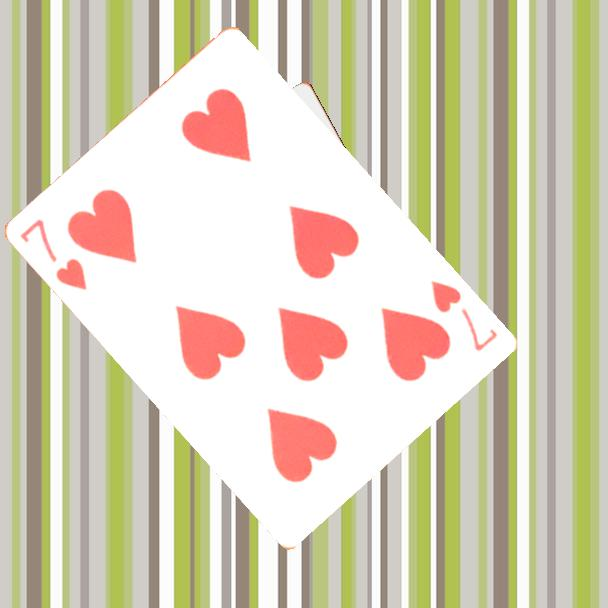h07: (17, 215, 91, 294), (428, 277, 501, 354)
